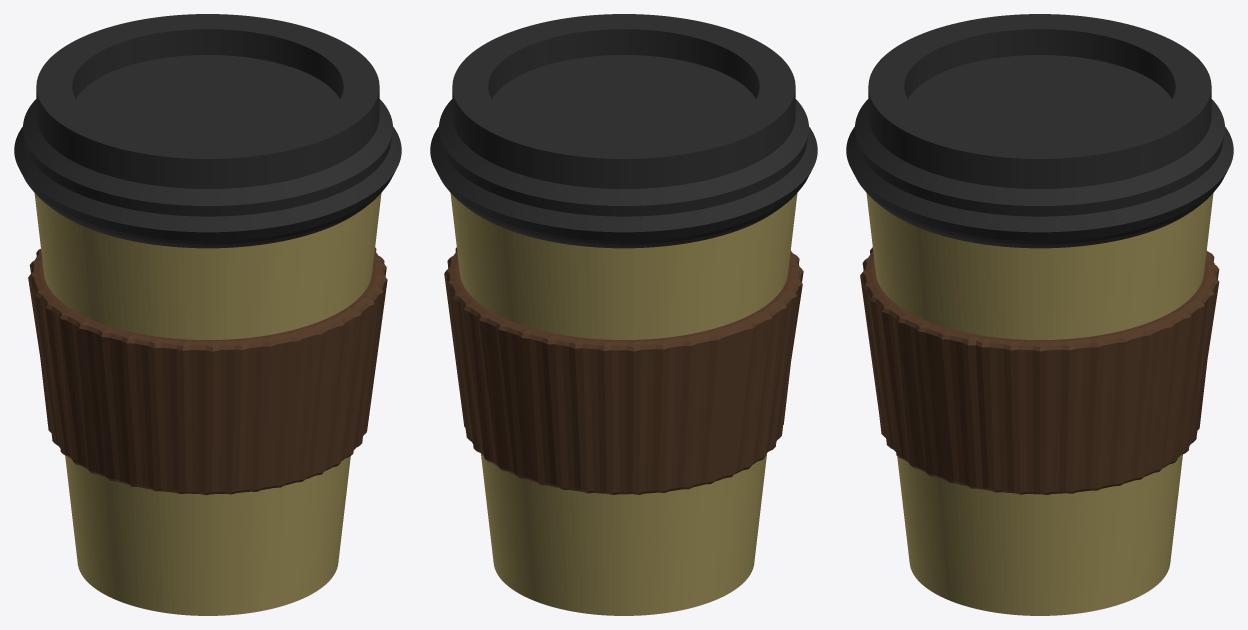
File: Cup.glb
The picture shows the model from 3 angles, left to right: view 1: azimuth 30°, elevation 25°; view 2: azimuth 150°, elevation 25°; view 3: azimuth 270°, elevation 25°; orthographic projection.
Parts seen in each view (by area): view 1: Cylinder.001, Cylinder, Cylinder.002; view 2: Cylinder.001, Cylinder, Cylinder.002; view 3: Cylinder.001, Cylinder, Cylinder.002.
Part boxes in pixels (box(x1,y1,x2,y2)): Cylinder.001: box(14, 14, 401, 248); Cylinder: box(34, 193, 381, 615); Cylinder.002: box(28, 247, 387, 495); Cylinder.001: box(430, 14, 817, 248); Cylinder: box(450, 193, 797, 615); Cylinder.002: box(444, 247, 803, 494); Cylinder.001: box(846, 14, 1233, 248); Cylinder: box(866, 193, 1213, 615); Cylinder.002: box(860, 247, 1219, 494).
Bounding box in the file's own units: 2.18 × 2.95 × 2.18.
